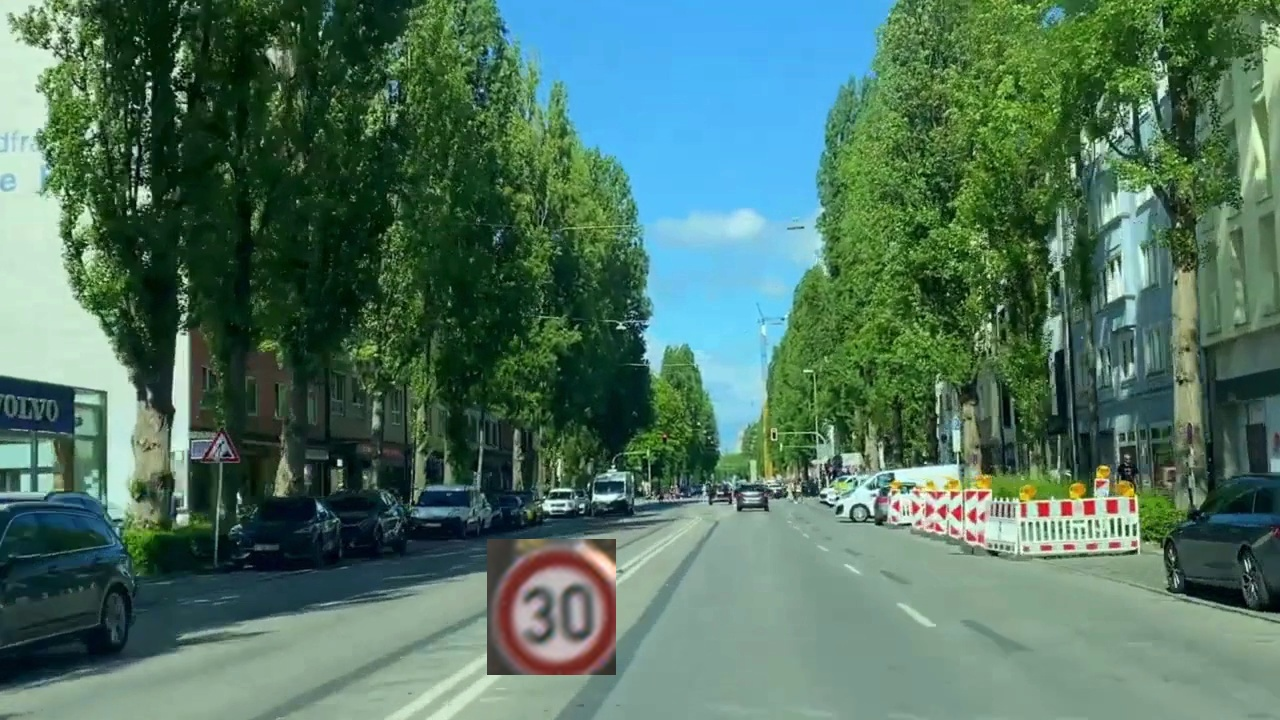Speed 30: (487, 539, 616, 675)
